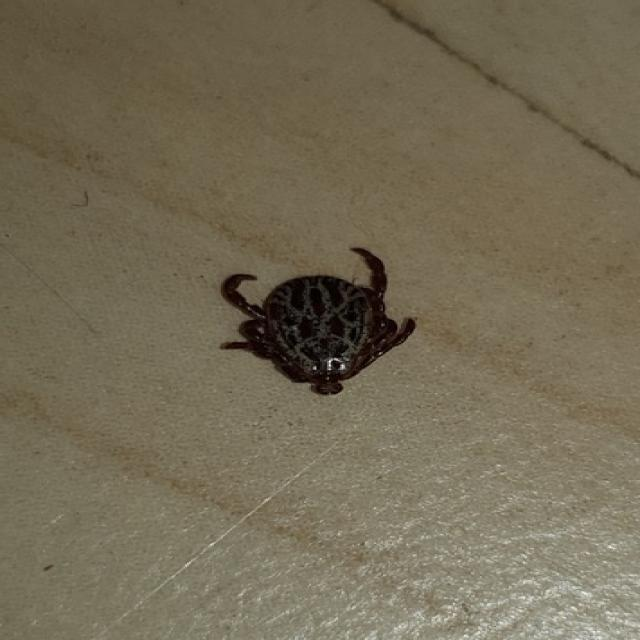Dermacentor Reticulatus-M: (221, 247, 415, 394)
